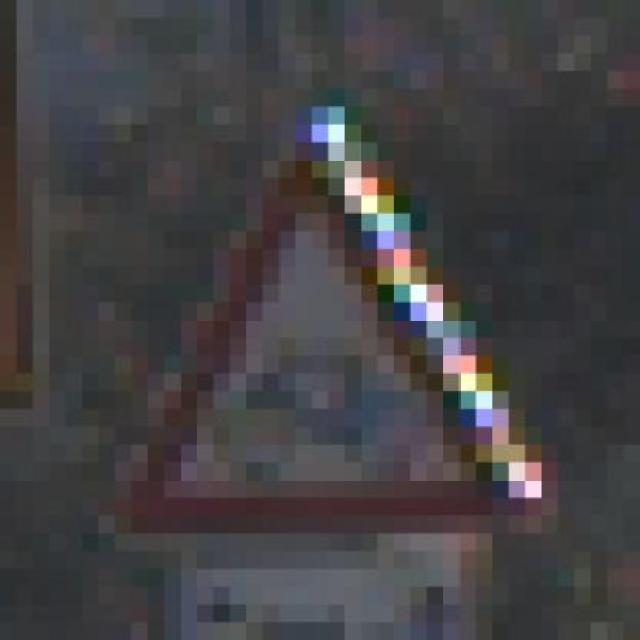CYCLE ROUTE AHEAD WARNING: (105, 71, 566, 569)
